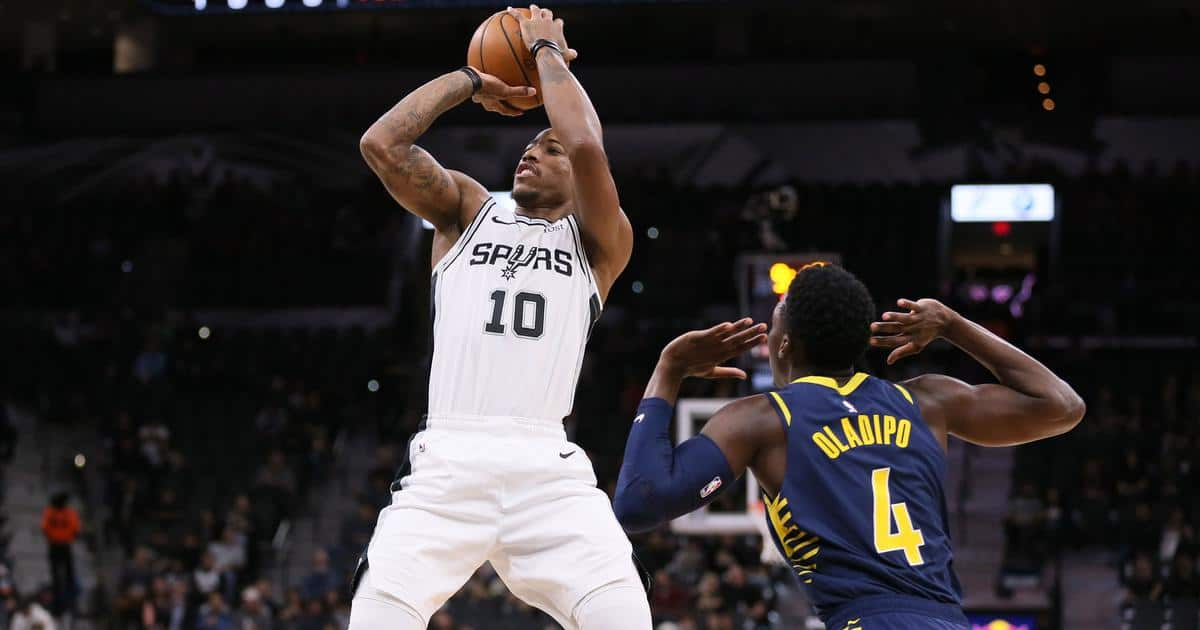Jumpshot: (359, 5, 604, 184)
